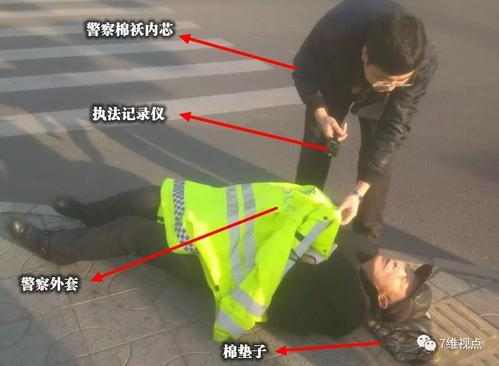bending: (281, 2, 436, 245)
down: (15, 172, 435, 349)
